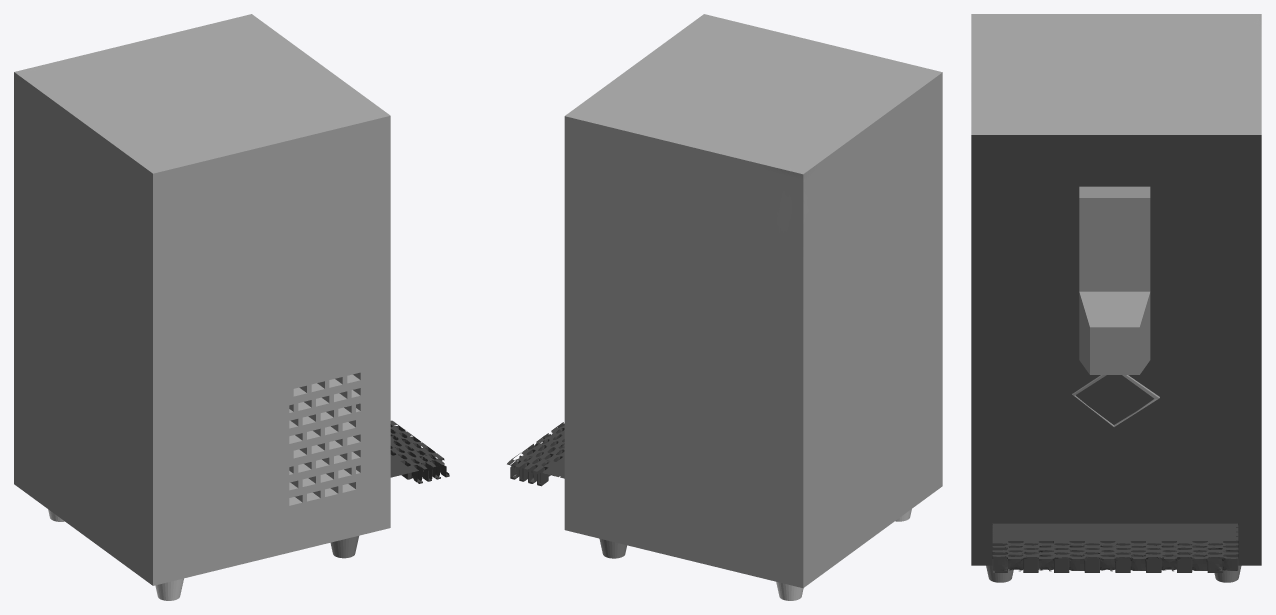
Rendered from water.fbx.
3 views of the same model, side by side, from view 1: azimuth 30°, elevation 25°; view 2: azimuth 150°, elevation 25°; view 3: azimuth 270°, elevation 25° (orthographic). The views are drawn at different scales.
Parts seen in each view (by area): view 1: Cube, Cube.002; view 2: Cube, Cube.002; view 3: Cube, Cube.001, Cube.002.
Part boxes in pixels (x1=…): Cube: x1=14, y1=14, x2=390, y2=585; Cube.002: x1=390, y1=420, x2=449, y2=483; Cube: x1=564, y1=14, x2=942, y2=588; Cube.002: x1=507, y1=422, x2=564, y2=486; Cube: x1=971, y1=14, x2=1261, y2=565; Cube.001: x1=1072, y1=186, x2=1159, y2=426; Cube.002: x1=992, y1=523, x2=1238, y2=572.
Bounding box in the file's own units: 96.97 × 130 × 74.46.
